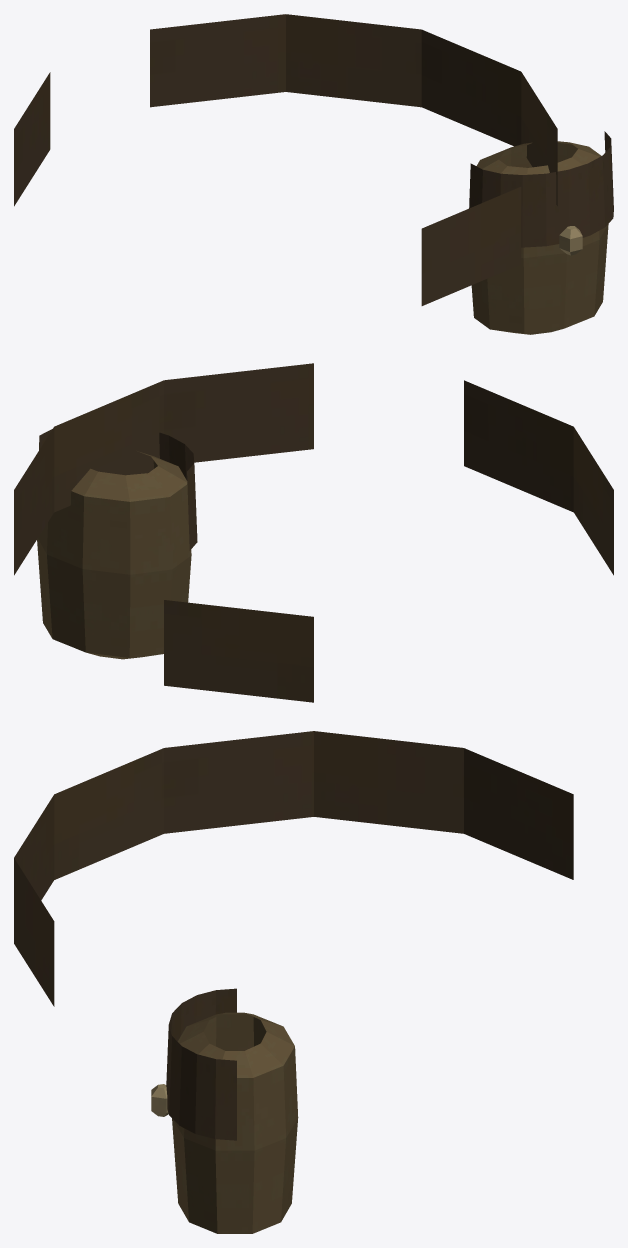
The model's file is acc_belt_pouch.glb.
The picture shows the model from 3 angles, top to bottom: view 1: azimuth 30°, elevation 25°; view 2: azimuth 150°, elevation 25°; view 3: azimuth 270°, elevation 25°; orthographic projection. The views are drawn at different scales.
Visible parts, largest first — view 1: acc_belt_pouch; view 2: acc_belt_pouch; view 3: acc_belt_pouch.
Boxes of the visible parts, box(x1,y1,x2,y2) form: acc_belt_pouch: box(14, 14, 613, 334); acc_belt_pouch: box(14, 363, 613, 702); acc_belt_pouch: box(14, 731, 573, 1233).
Size of the model in its own units: 0.421 by 0.17 by 0.38.
Materials: 3 (3 with a texture image).
